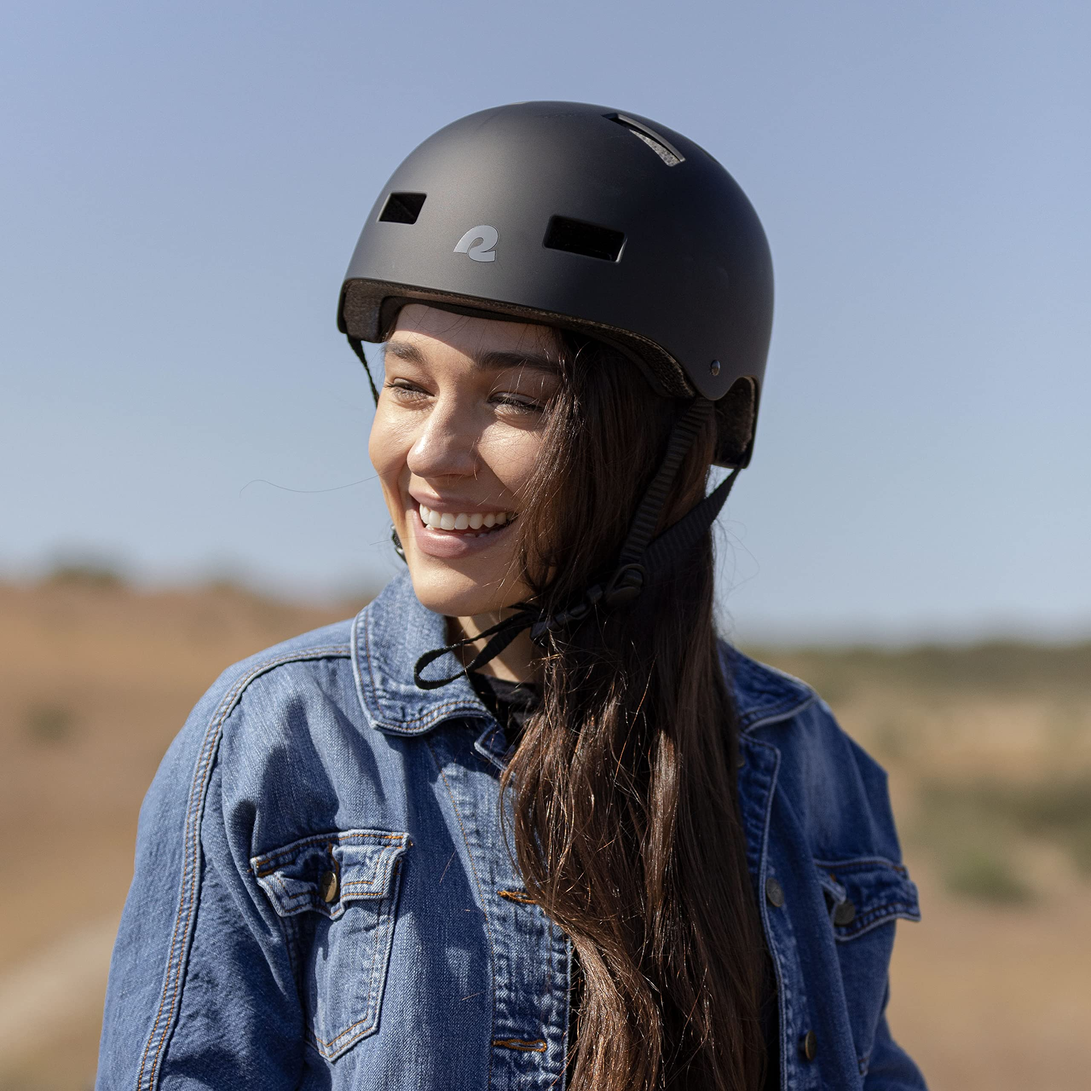helmets: (323, 97, 777, 463)
